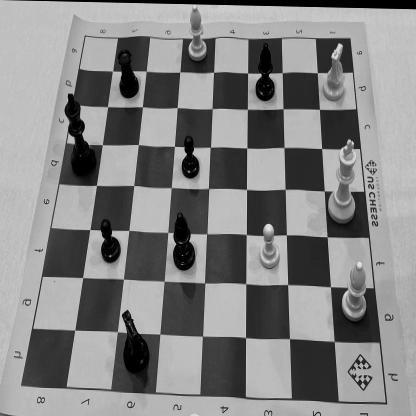black-bishop: (249, 33, 280, 105), (170, 207, 196, 274)
black-king: (61, 87, 100, 179)
black-knight: (114, 306, 152, 380)
black-pawn: (96, 214, 123, 266), (180, 130, 202, 182)
black-rook: (114, 42, 140, 104)
white-bishop: (339, 254, 372, 323), (184, 4, 210, 64)
white-king: (322, 133, 362, 227)
white-knight: (319, 32, 350, 106)
white-pawn: (256, 216, 282, 270)
